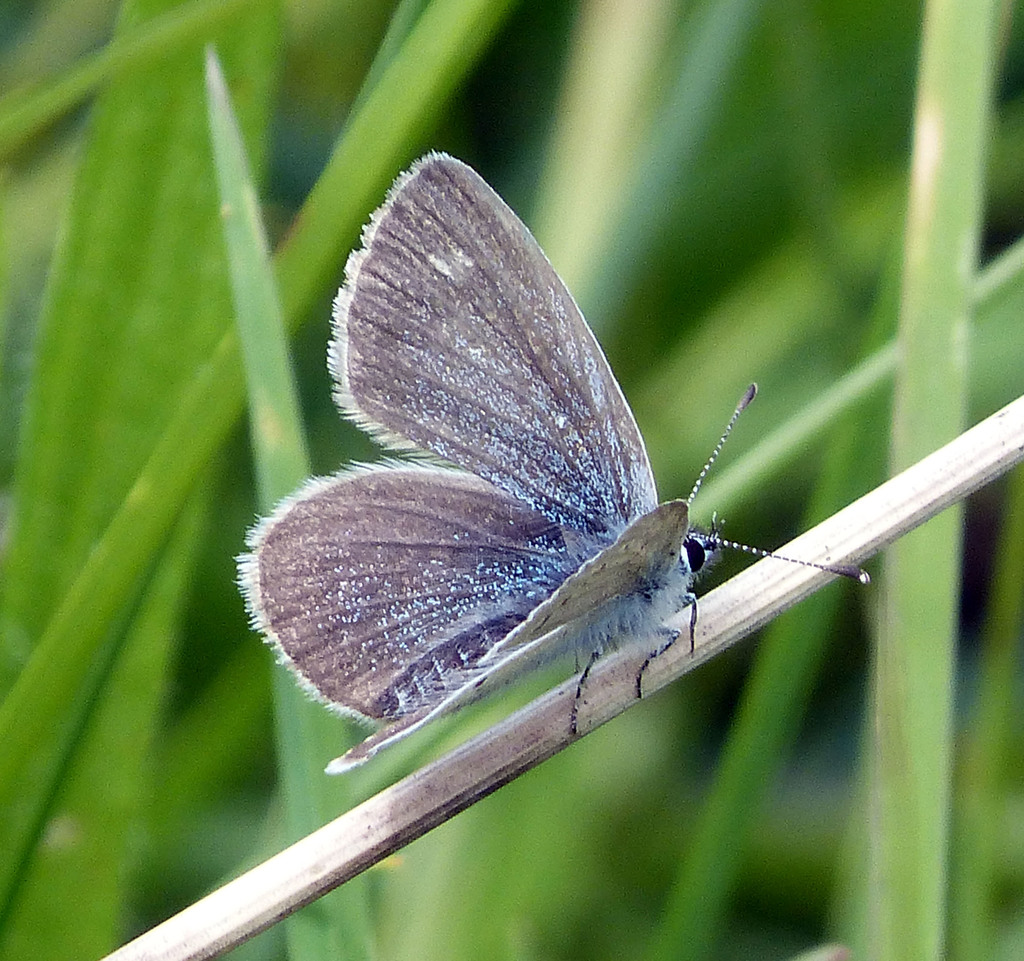Butterfly: (203, 139, 890, 755)
